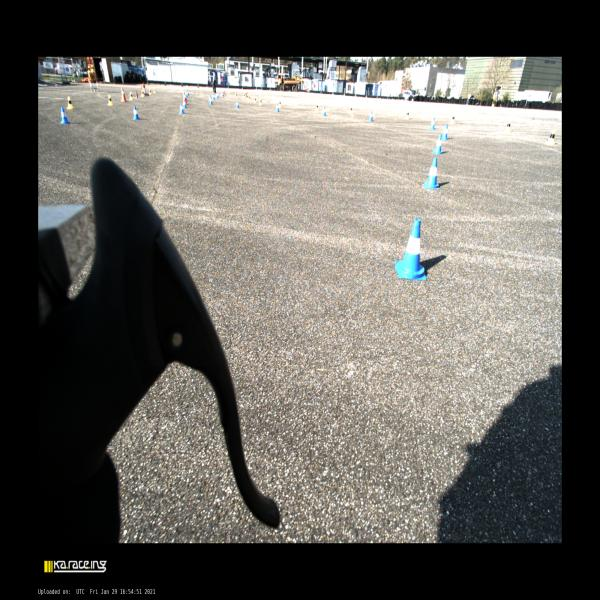blue_cone: (396, 218, 427, 280), (423, 157, 440, 189), (432, 134, 442, 154), (59, 107, 70, 124), (429, 116, 436, 130), (133, 106, 140, 120), (442, 125, 448, 139), (179, 103, 185, 113), (368, 110, 373, 121), (321, 105, 326, 116), (275, 102, 279, 112), (235, 100, 239, 108), (209, 97, 213, 105), (183, 99, 186, 108), (212, 94, 215, 99), (216, 92, 218, 99), (218, 92, 220, 97), (185, 92, 187, 97), (221, 93, 223, 97), (209, 95, 210, 102), (187, 90, 188, 96)
large_orange_cone: (121, 87, 127, 102), (184, 92, 187, 105)
orange_cone: (224, 91, 225, 95), (236, 92, 237, 95)
yellow_cone: (545, 128, 557, 146), (502, 119, 512, 135), (66, 96, 74, 109), (108, 95, 113, 105), (451, 115, 455, 124), (129, 92, 133, 100), (141, 89, 144, 97), (259, 99, 262, 105), (149, 88, 151, 95), (406, 112, 408, 119), (350, 107, 352, 114), (316, 104, 318, 111), (154, 88, 156, 94), (248, 96, 250, 102), (279, 102, 281, 107), (243, 93, 245, 98), (246, 95, 248, 99), (255, 98, 256, 103)
